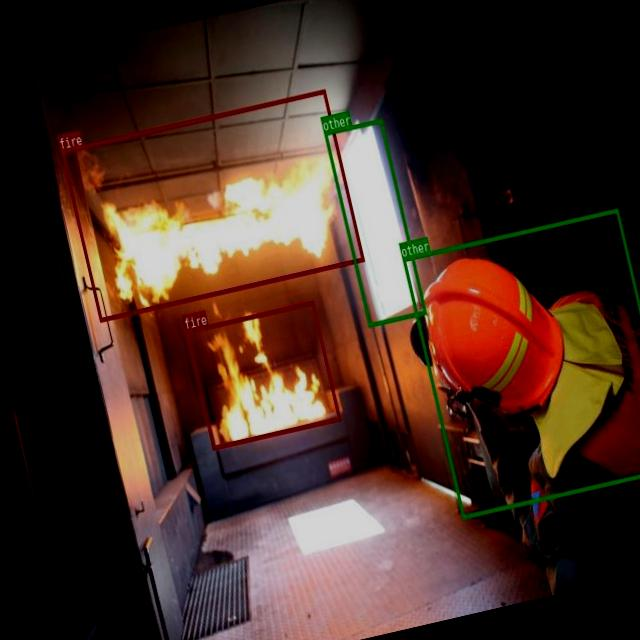fire: (59, 88, 363, 320), (184, 300, 340, 448)
